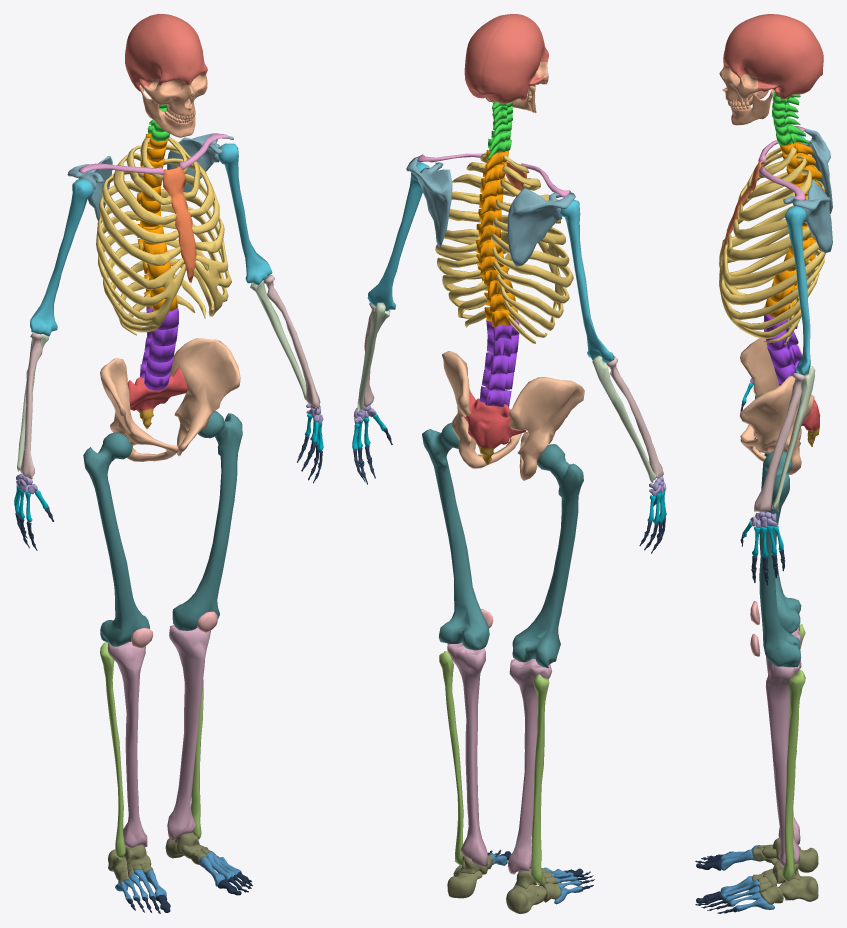
File: body_colored.glb
The picture shows the model from 3 angles, left to right: view 1: azimuth 30°, elevation 25°; view 2: azimuth 150°, elevation 25°; view 3: azimuth 270°, elevation 25°; orthographic projection.
Parts seen in each view (by area): view 1: skull.012, skull.001, skull.004, skull.002, skull.007, skull.005; view 2: skull.012, skull.001, skull.004, skull.003, skull.002, skull.005; view 3: skull.012, skull.004, skull.007, skull.005.
Part boxes in pixels (x1,y1,x2,y2): skull.012: (14,14,323,913); skull.001: (30,179,93,336); skull.004: (218,143,272,285); skull.002: (20,333,43,479); skull.007: (263,275,320,409); skull.005: (250,280,306,399); skull.012: (352,14,666,913); skull.001: (560,199,614,362); skull.004: (367,162,429,311); skull.003: (592,355,656,482); skull.002: (606,356,663,478); skull.005: (357,302,390,411); skull.012: (695,14,832,913); skull.004: (784,206,810,375); skull.007: (754,373,805,511); skull.005: (771,365,815,511).
Bounding box in the file's own units: 1.23 × 3.36 × 0.4833.
